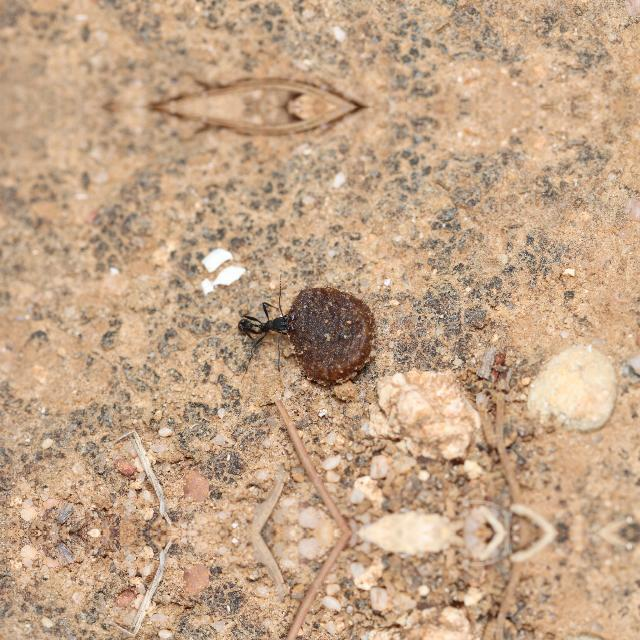Apheanogaster: (230, 302, 306, 344)
